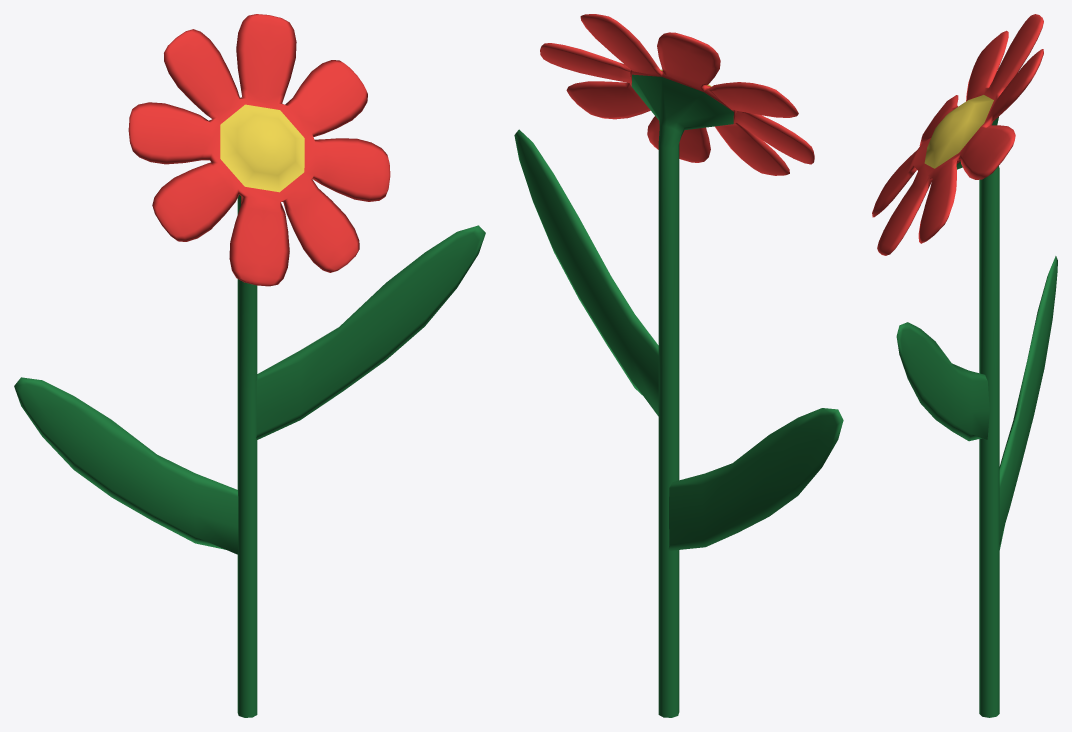
File: Flower.fbx
3 views of the same model, side by side, from view 1: azimuth 30°, elevation 25°; view 2: azimuth 150°, elevation 25°; view 3: azimuth 270°, elevation 25° (orthographic). The views are drawn at different scales.
Visible parts, largest first — view 1: flower; view 2: flower; view 3: flower.
Boxes of the visible parts, box(x1,y1,x2,y2) form: flower: box(14, 14, 485, 717); flower: box(514, 14, 843, 717); flower: box(872, 14, 1057, 717).
Bounding box in the file's own units: 22.33 × 36.58 × 9.09.
